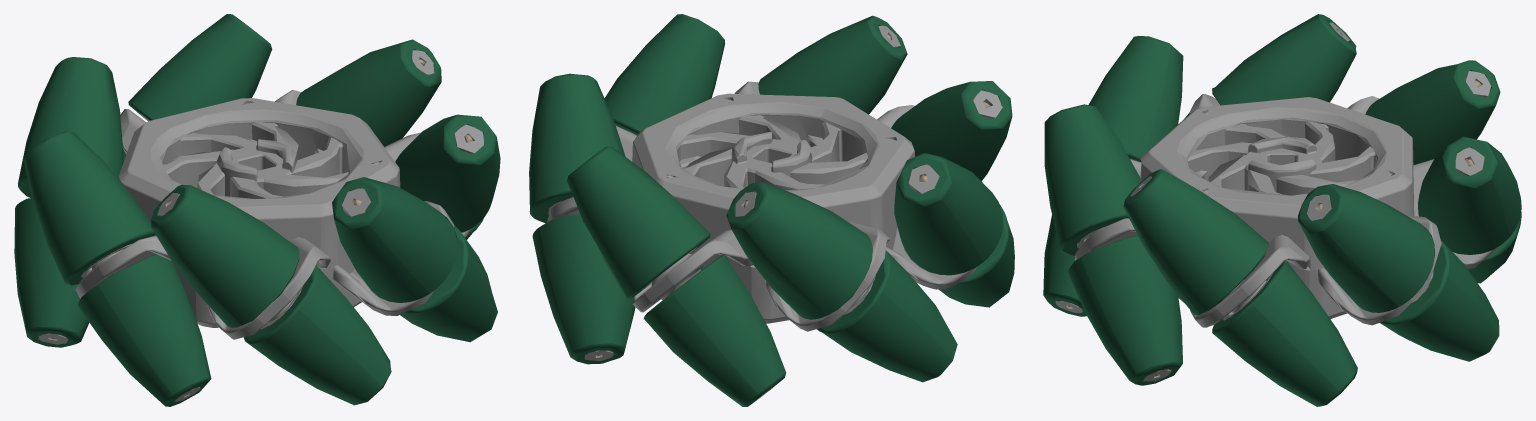
The picture shows the model from 3 angles, left to right: view 1: azimuth 30°, elevation 25°; view 2: azimuth 150°, elevation 25°; view 3: azimuth 270°, elevation 25°; orthographic projection.
Parts seen in each view (by area): view 1: 276-1447-015 Rev1 (×11), 276-1447-001 Rev3, 276-1447-011 Rev1 (×5), 276-1447-012 Rev1 (×2), 276-1447-002 Rev3; view 2: 276-1447-015 Rev1 (×11), 276-1447-001 Rev3, 276-1447-011 Rev1 (×4), 276-1447-002 Rev3, 276-1447-012 Rev1 (×2); view 3: 276-1447-015 Rev1 (×12), 276-1447-001 Rev3, 276-1447-011 Rev1 (×4), 276-1447-012 Rev1 (×3), 276-1447-002 Rev3.
Part boxes in pixels (<box>): 276-1447-015 Rev1 (×11): <box>14,14,500,406</box>; 276-1447-001 Rev3: <box>118,98,400,273</box>; 276-1447-011 Rev1 (×5): <box>75,109,472,339</box>; 276-1447-012 Rev1 (×2): <box>342,124,483,216</box>; 276-1447-002 Rev3: <box>174,264,361,327</box>; 276-1447-015 Rev1 (×11): <box>529,14,1014,406</box>; 276-1447-001 Rev3: <box>632,93,915,254</box>; 276-1447-011 Rev1 (×4): <box>547,197,976,331</box>; 276-1447-002 Rev3: <box>661,254,788,323</box>; 276-1447-012 Rev1 (×2): <box>908,90,1002,193</box>; 276-1447-015 Rev1 (×12): <box>1043,14,1521,406</box>; 276-1447-001 Rev3: <box>1140,97,1414,269</box>; 276-1447-011 Rev1 (×4): <box>1074,159,1498,327</box>; 276-1447-012 Rev1 (×3): <box>1307,71,1491,220</box>; 276-1447-002 Rev3: <box>1178,260,1347,318</box>.
Bounding box in the file's own units: 103 × 50.97 × 103.
